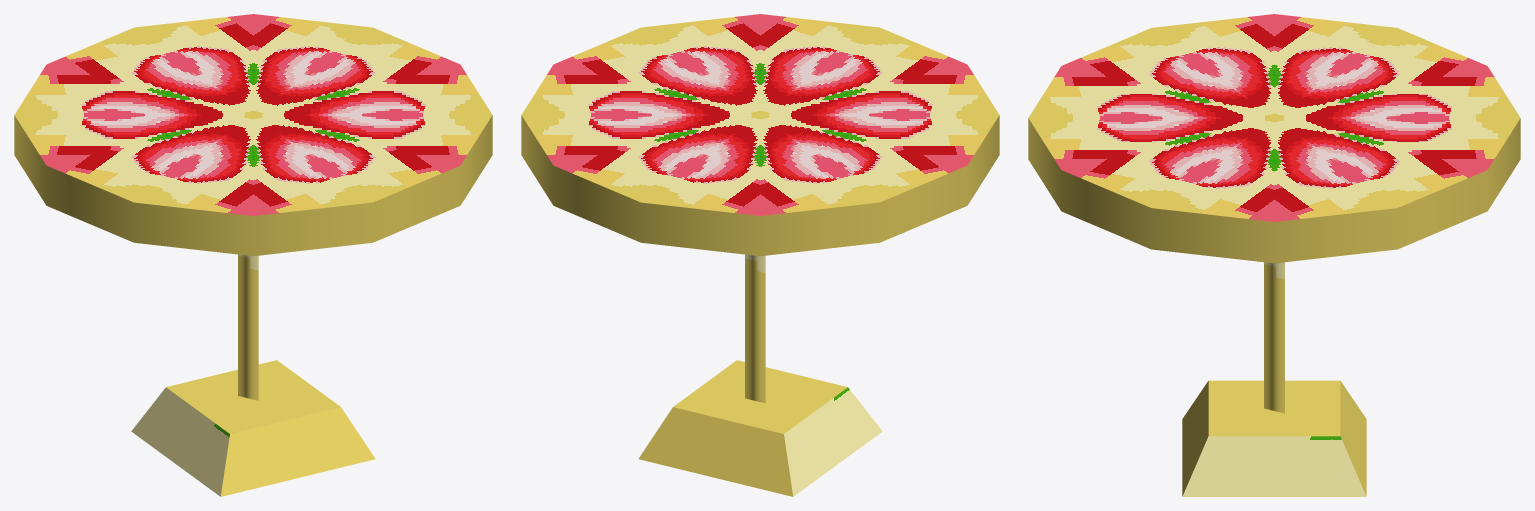
3 renders of one model, left to right at view 1: azimuth 30°, elevation 25°; view 2: azimuth 150°, elevation 25°; view 3: azimuth 270°, elevation 25°, orthographic. The views are drawn at different scales.
Parts seen in each view (by area): view 1: 3701kg_it_ta0; view 2: 3701kg_it_ta0; view 3: 3701kg_it_ta0.
Boxes of the visible parts, x1,y1,x2,y2 form: 3701kg_it_ta0: [14, 14, 492, 496]; 3701kg_it_ta0: [521, 14, 999, 496]; 3701kg_it_ta0: [1028, 14, 1520, 496].
Size of the model in its own units: 0.9834 by 0.7495 by 0.9834.
1 material, 1 textured.
